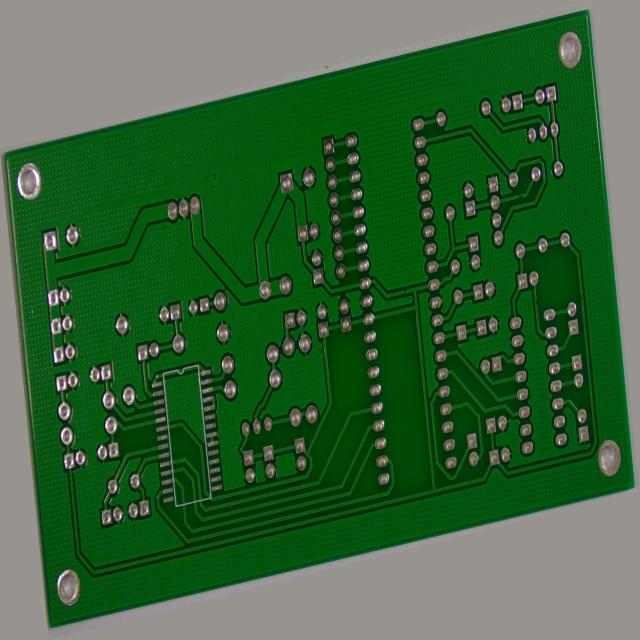mouse_bite: (541, 219, 549, 235), (546, 359, 553, 375), (409, 304, 416, 317)
